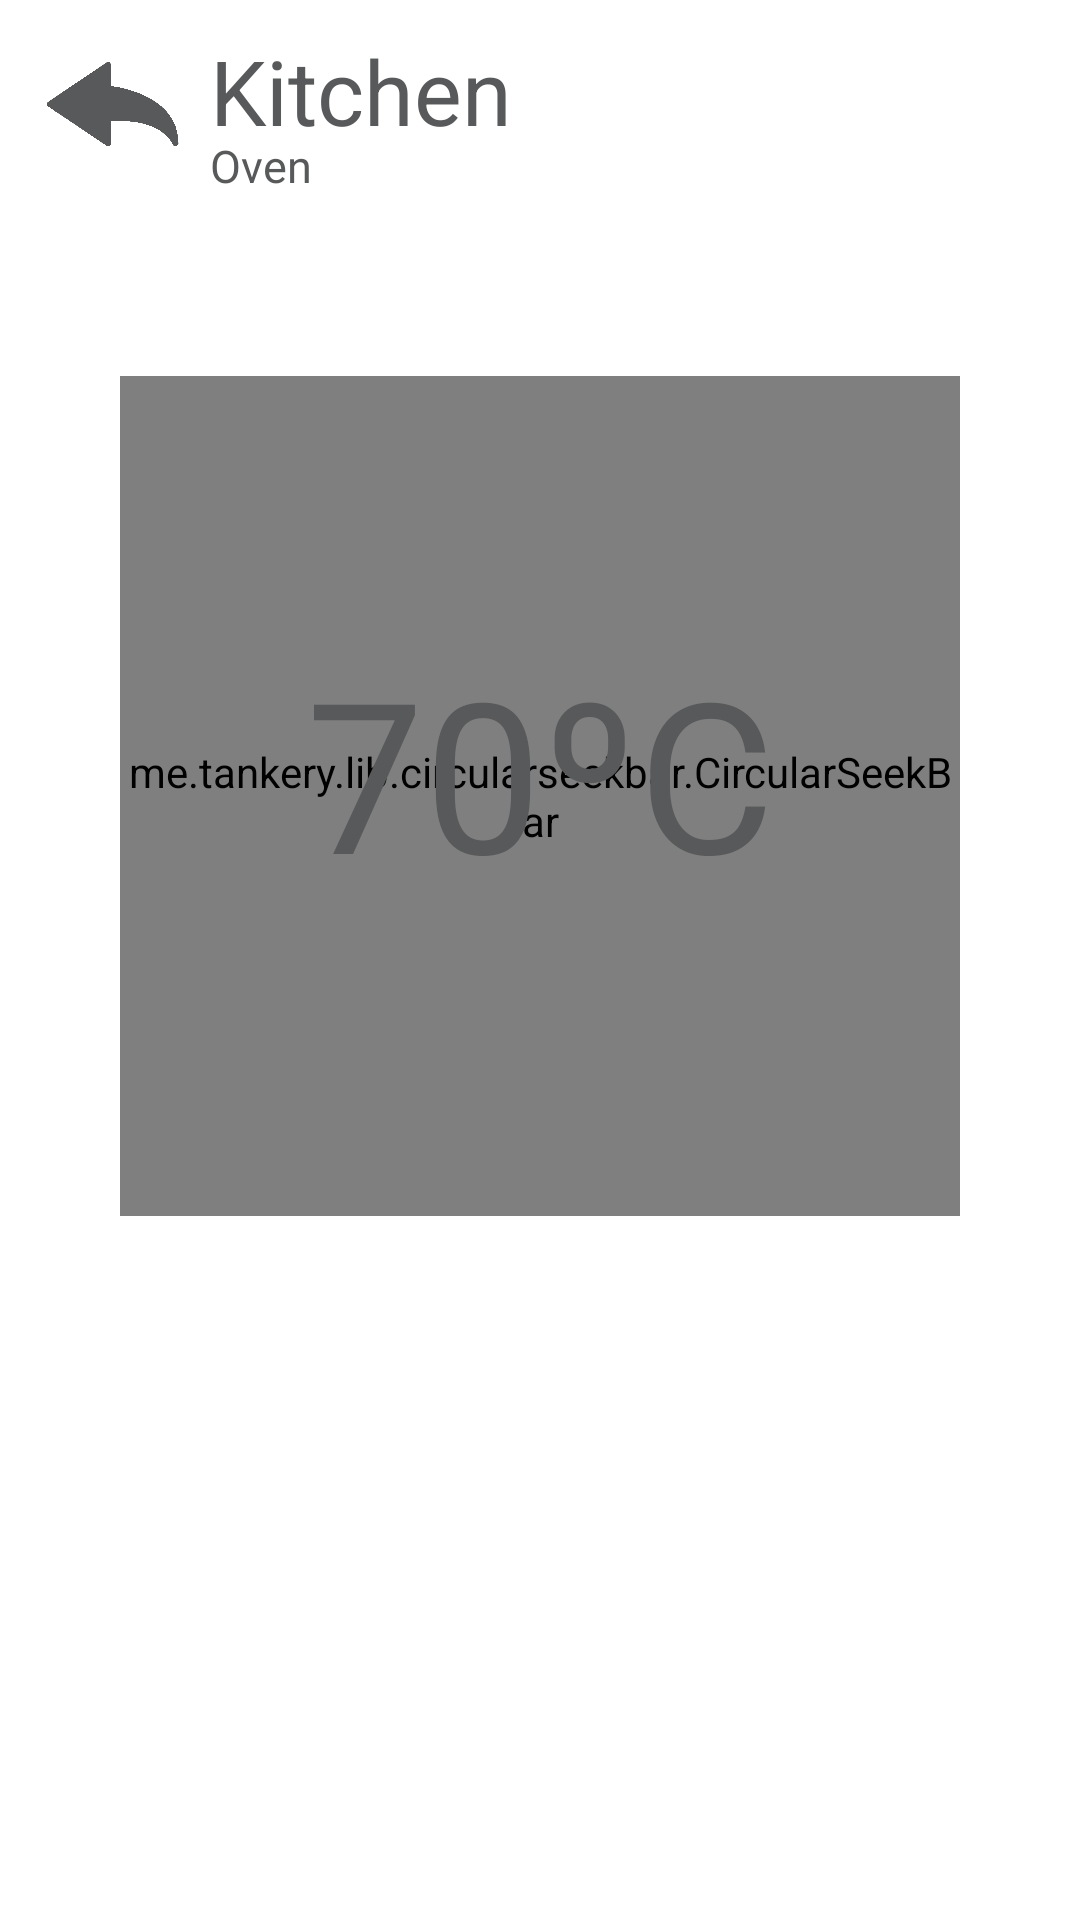

Icon bounding boxes for this 1080 x 1920 phone screenshot, format [left=x1, top=y1, right=x2, bottom=y2]:
back arrow: [left=47, top=62, right=179, bottom=146]
